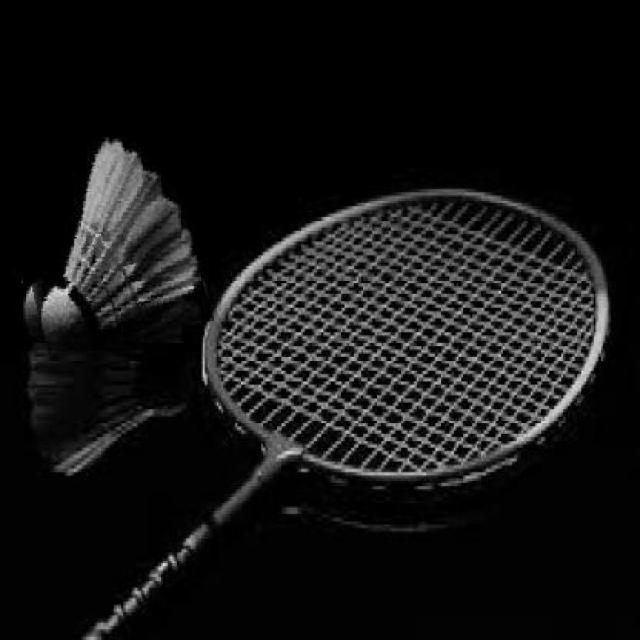Shuttlecock: (13, 132, 205, 351)
